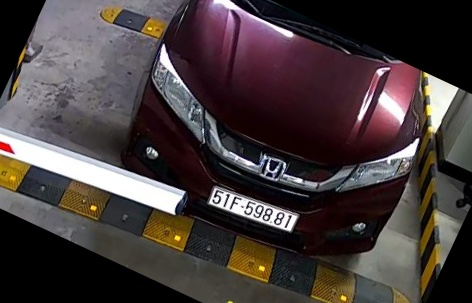plate: (204, 180, 308, 242)
